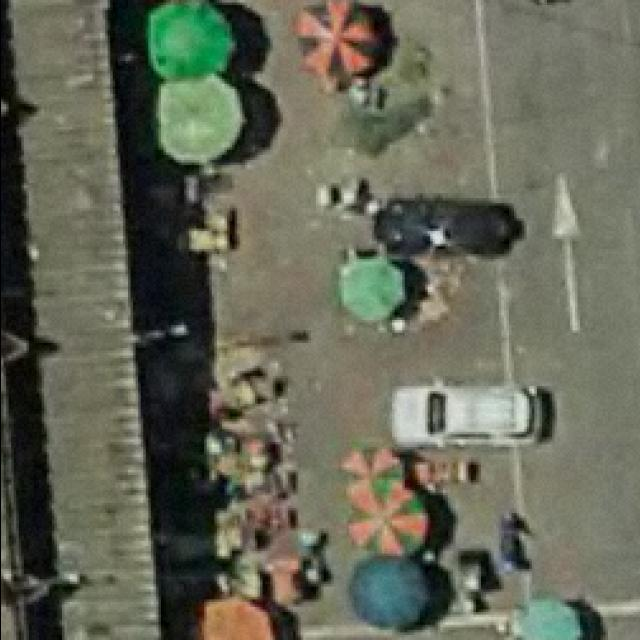vendedor_ambulante: (292, 0, 401, 89), (155, 76, 253, 162), (333, 245, 419, 330), (147, 0, 239, 76), (348, 478, 430, 558), (351, 559, 438, 631), (170, 594, 290, 640), (338, 440, 410, 495)
